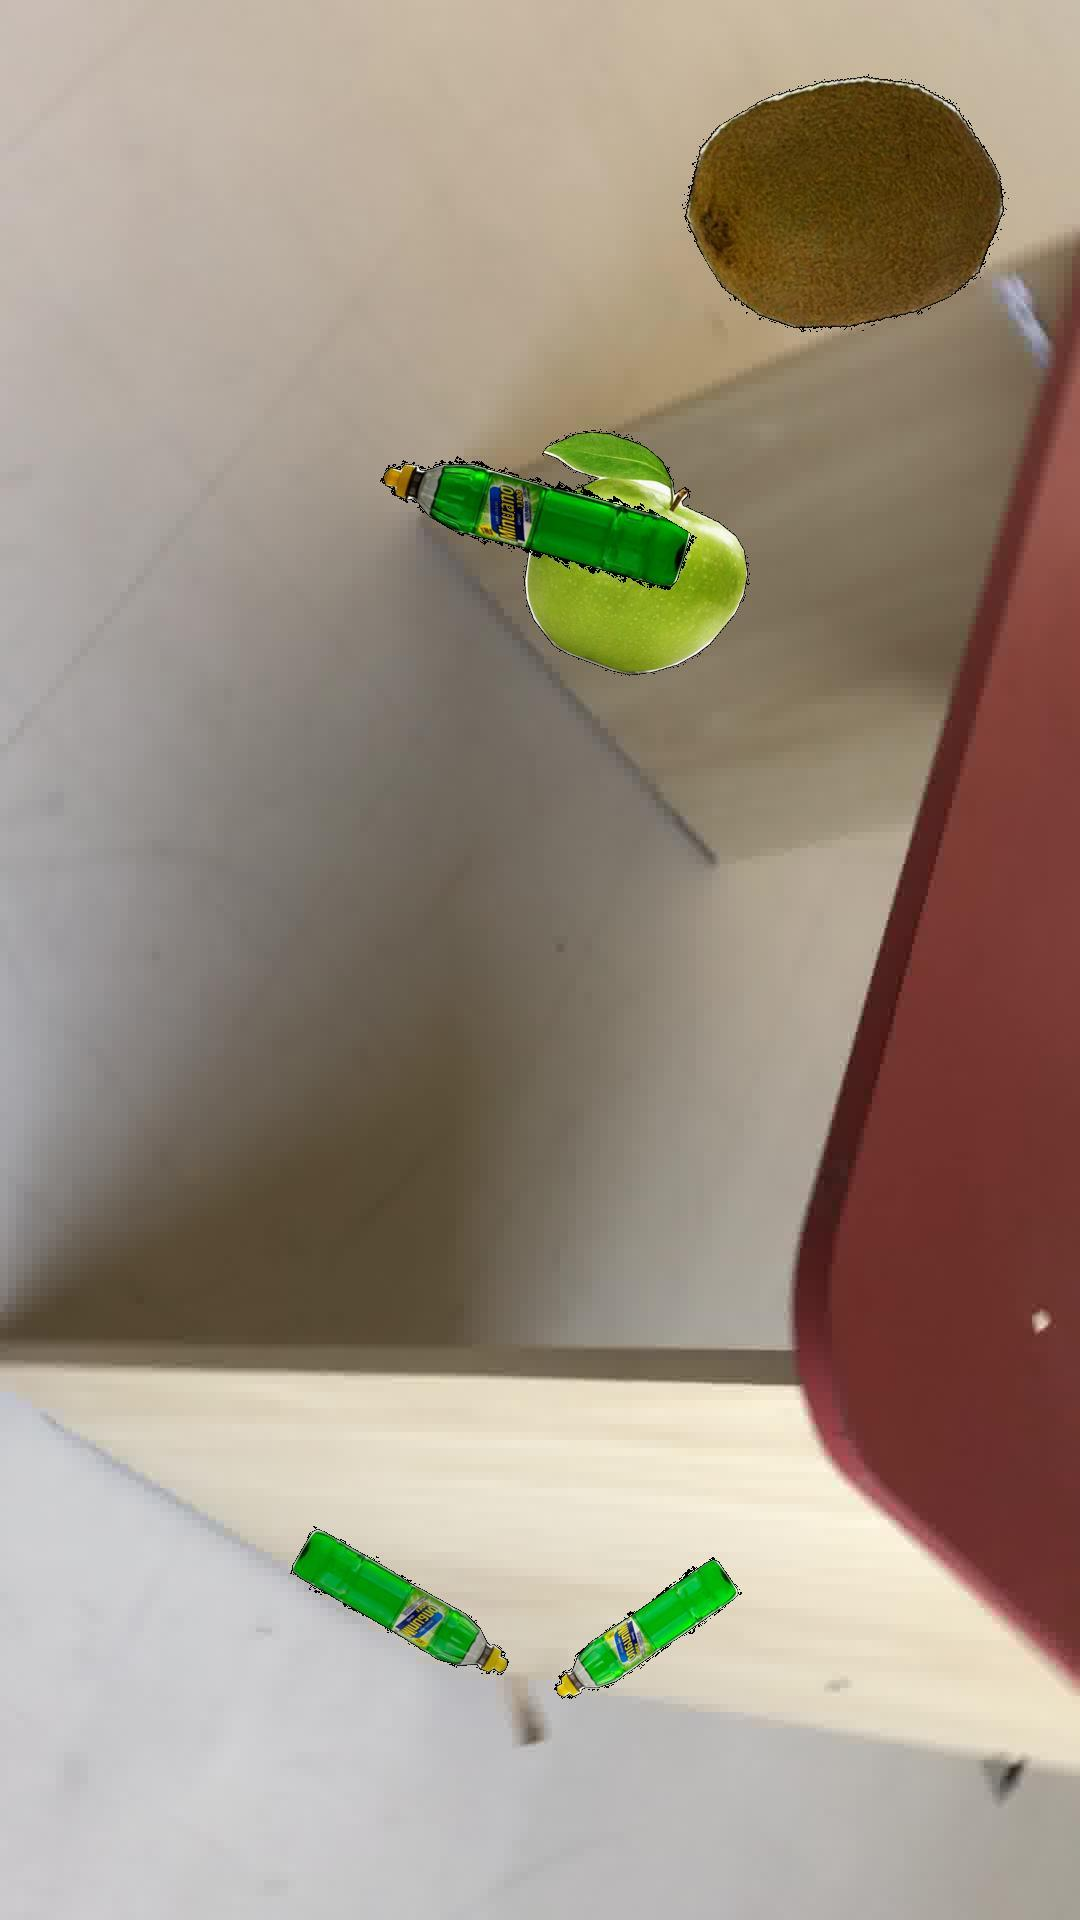cleaner: (378, 458, 692, 588), (289, 1527, 508, 1672), (553, 1556, 737, 1697)
green apple: (522, 430, 748, 674)
kiwi: (683, 74, 1002, 331)
